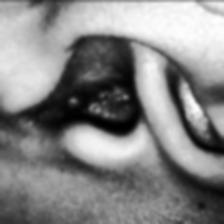Unclassified: (66, 76, 130, 119)
